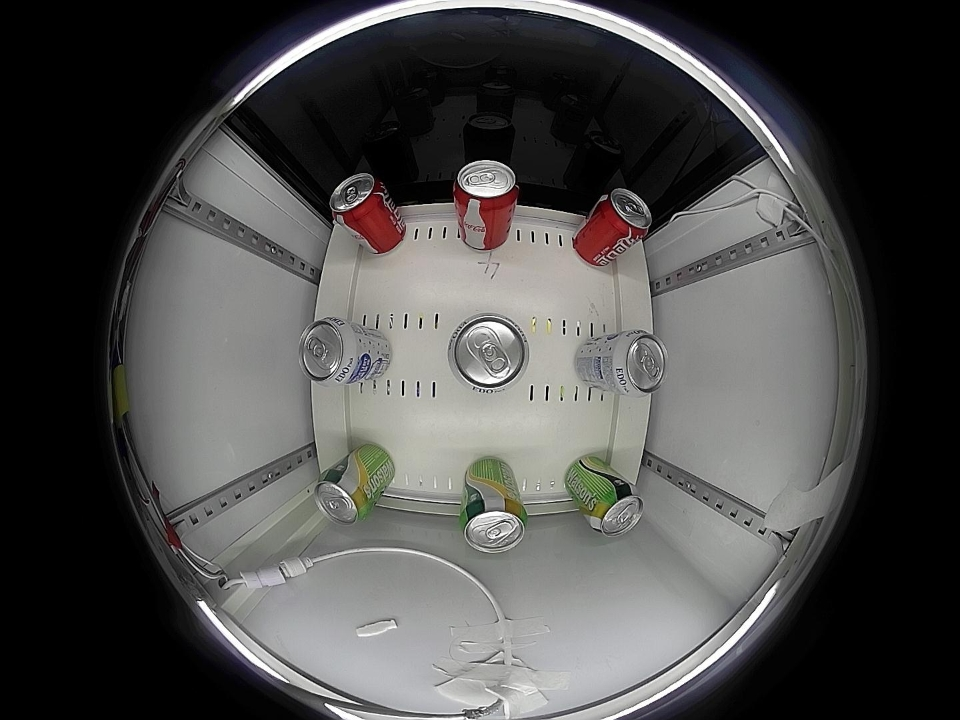kele: (454, 160, 520, 212), (330, 173, 388, 224), (597, 189, 652, 240)
quchenshixiangcao: (458, 495, 528, 556), (314, 470, 371, 526), (589, 483, 645, 538)
rusuanjunqishui: (447, 312, 530, 394), (298, 317, 362, 386), (609, 329, 668, 397)
